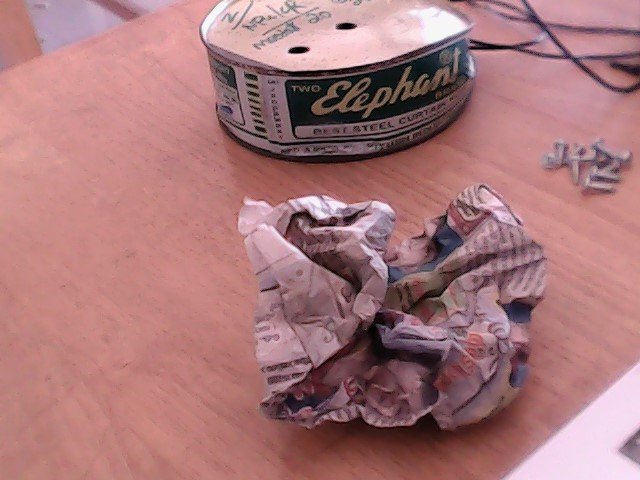Metal: (205, 2, 472, 153)
paper: (246, 180, 533, 480)
